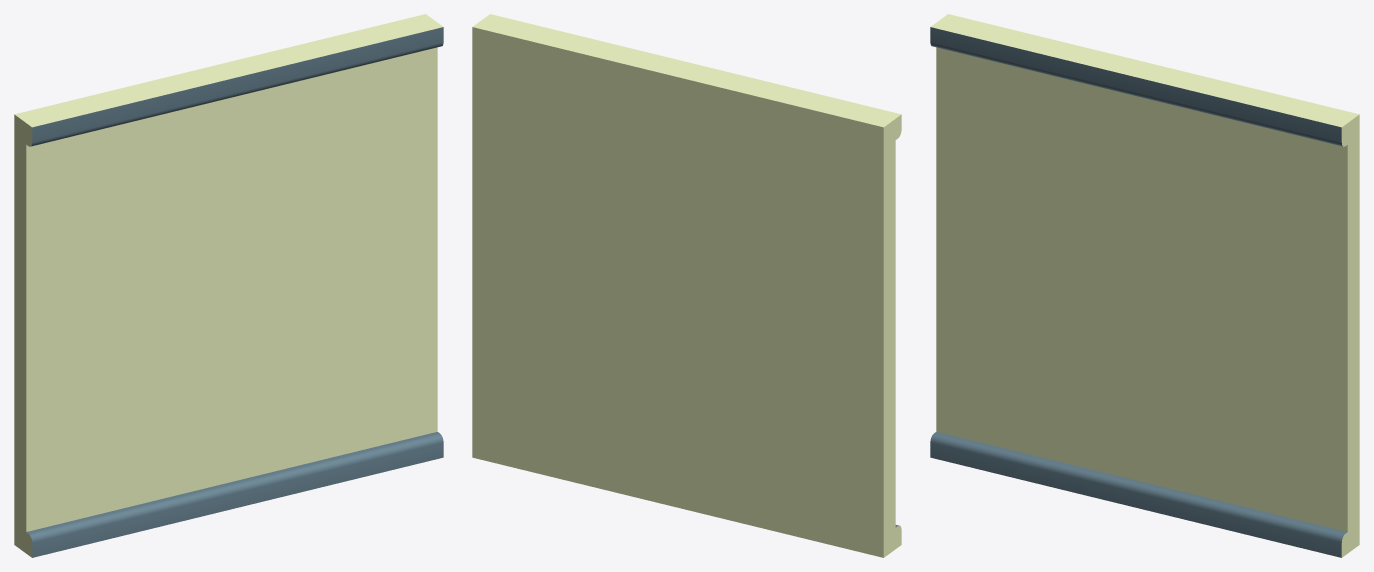
Rendered from Modular_01_Wall_2m.fbx.
The picture shows the model from 3 angles, left to right: view 1: azimuth 30°, elevation 25°; view 2: azimuth 150°, elevation 25°; view 3: azimuth 330°, elevation 25°; orthographic projection.
Visible parts, largest first — view 1: Modular_01_Wall_2m; view 2: Modular_01_Wall_2m; view 3: Modular_01_Wall_2m.
Boxes of the visible parts, x1=… form: Modular_01_Wall_2m: x1=14, y1=14, x2=443, y2=557; Modular_01_Wall_2m: x1=472, y1=14, x2=901, y2=557; Modular_01_Wall_2m: x1=930, y1=14, x2=1359, y2=557.
Bounding box in the file's own units: 200 × 200 × 15.
